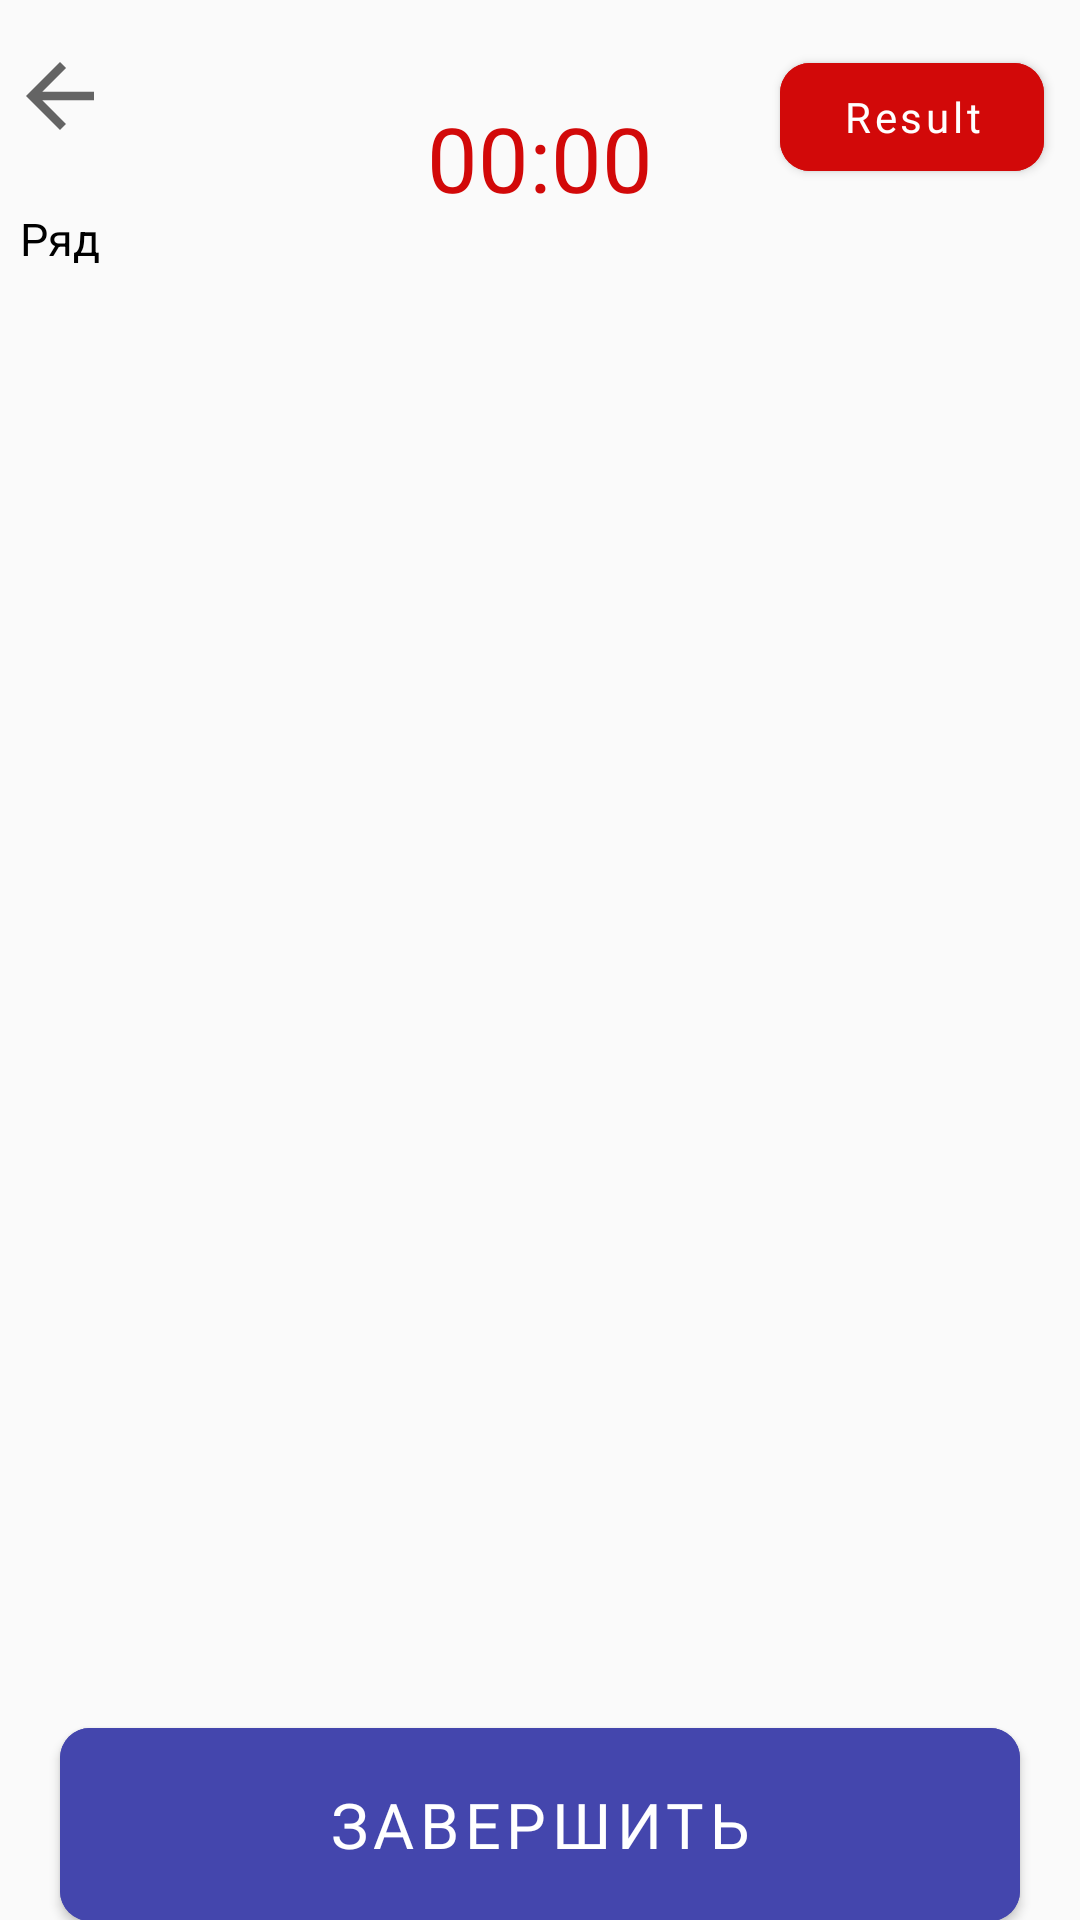

Screen size 1080*1920. Icon name, then its center in pixels as point (x, y):
arrow back: point (60, 96)
